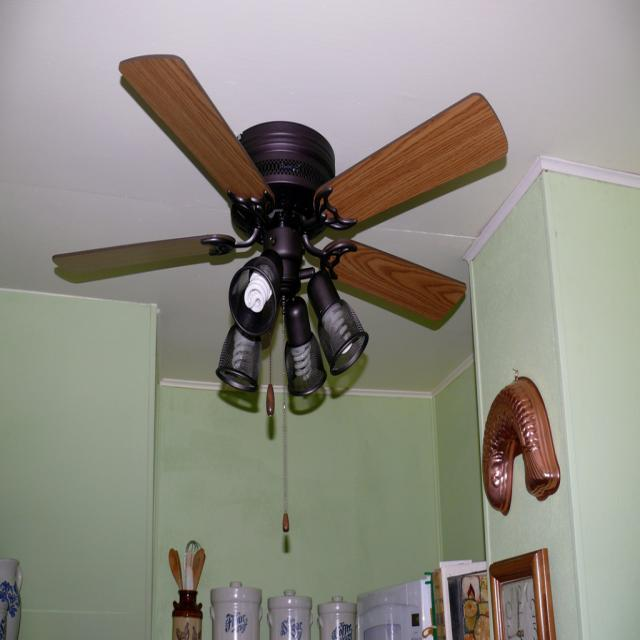bulb_off: (314, 306, 372, 346), (228, 329, 257, 384), (284, 351, 322, 384), (246, 279, 280, 315)
fan_off: (59, 58, 501, 324)
